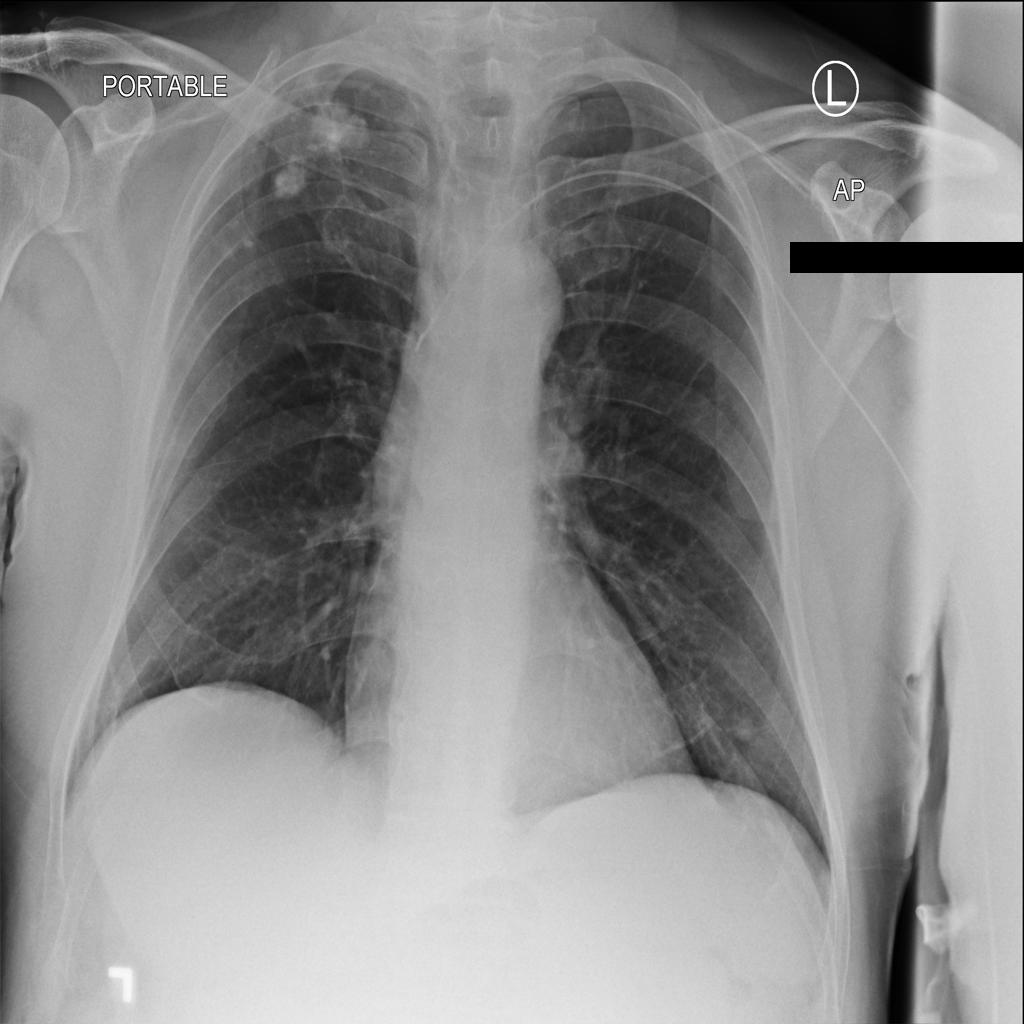nodule: (297, 92, 376, 162), (256, 143, 321, 215), (726, 698, 771, 755)
